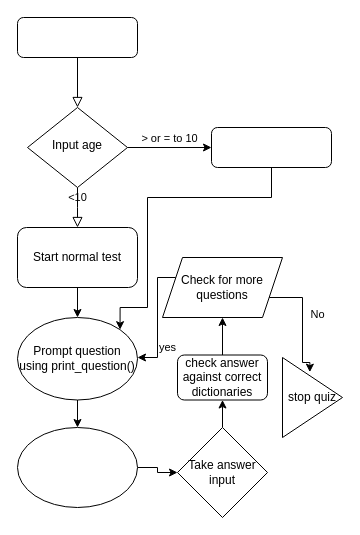
This 360x535 diagram has some shape labels left out. The box of each missing label's shape, as (x1, y1, x2, y2) in pixels:
Prompt answers using, print_answer(): (16, 426, 138, 508)
Start: (16, 16, 138, 58)
Start young version: (210, 126, 332, 168)
